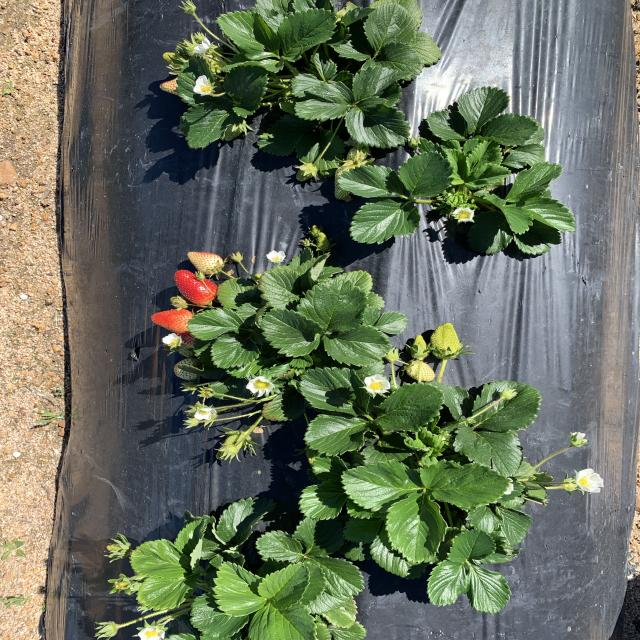unripe: (174, 268, 222, 308), (151, 308, 194, 332)
